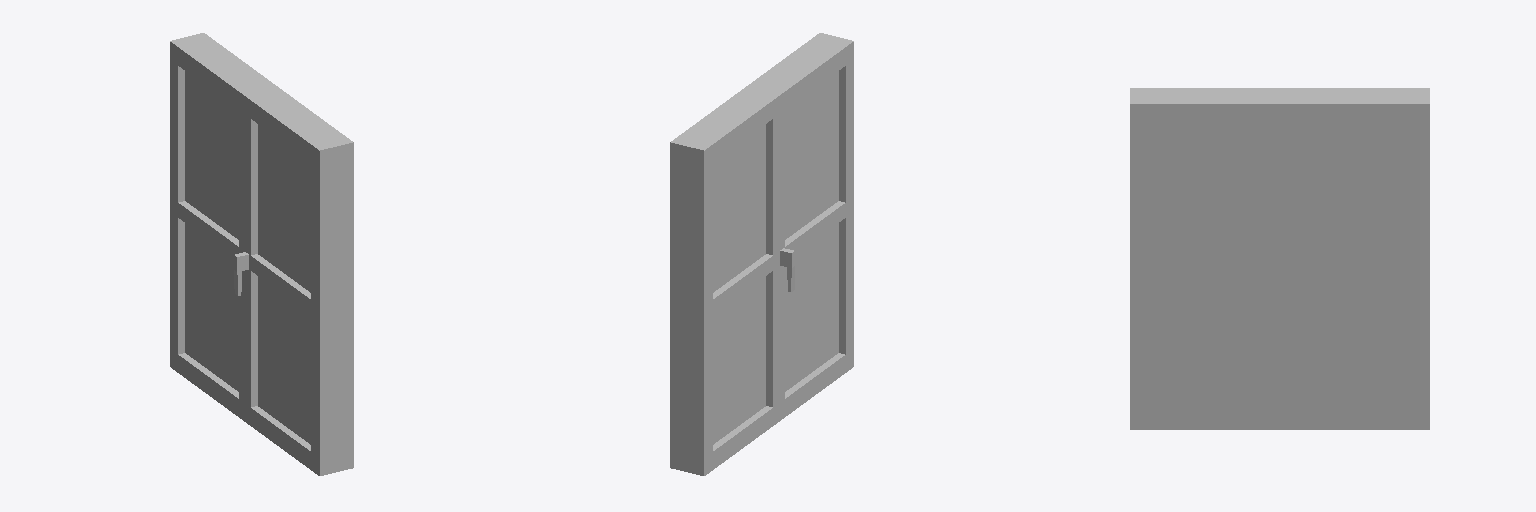
Rendered from window.obj.
3 views of the same model, side by side, from view 1: azimuth 30°, elevation 25°; view 2: azimuth 150°, elevation 25°; view 3: azimuth 270°, elevation 25° (orthographic).
Parts seen in each view (by area): view 1: Window; view 2: Window; view 3: Window.
Boxes of the visible parts, box(x1,y1,x2,y2) form: Window: box(170, 33, 353, 475); Window: box(670, 33, 853, 475); Window: box(1130, 88, 1429, 429).
Bounding box in the file's own units: 8.83 × 60 × 50.